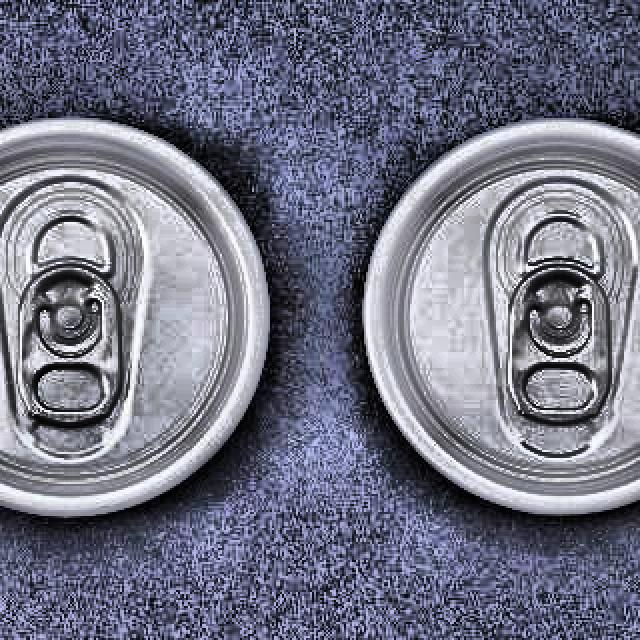metal: (0, 100, 284, 530), (352, 100, 640, 524)
